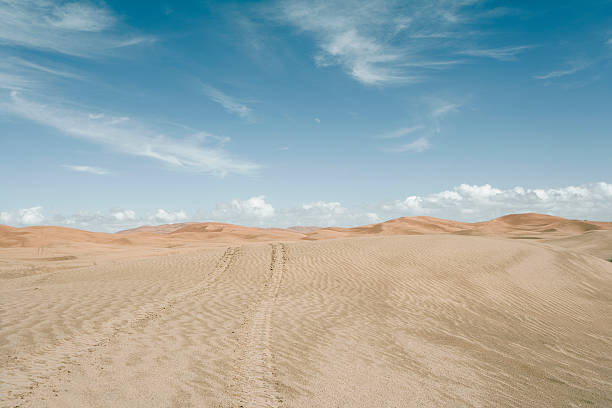vehicle_track: (0, 246, 240, 406), (230, 243, 286, 407), (129, 246, 240, 326)
